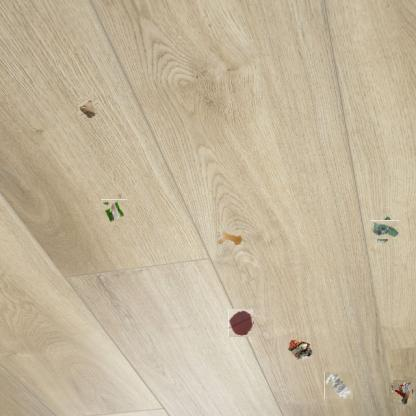dirty: (324, 371, 353, 399), (288, 338, 316, 362), (102, 199, 127, 225), (372, 218, 397, 242), (390, 382, 414, 404), (78, 97, 99, 118)
liquid: (228, 310, 254, 337), (216, 230, 242, 246)
